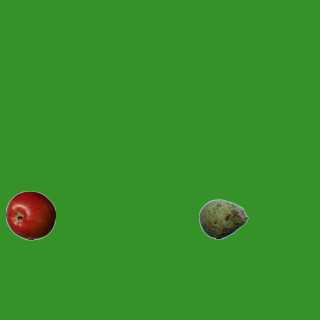Apple Braeburn: (5, 190, 55, 240)
Pear Stone: (198, 194, 248, 244)
